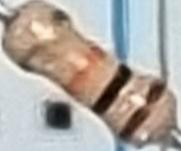Black: (87, 61, 135, 120)
Brown: (117, 79, 169, 145)
Orange: (62, 44, 108, 98)
Side-Gold: (13, 9, 70, 72)
